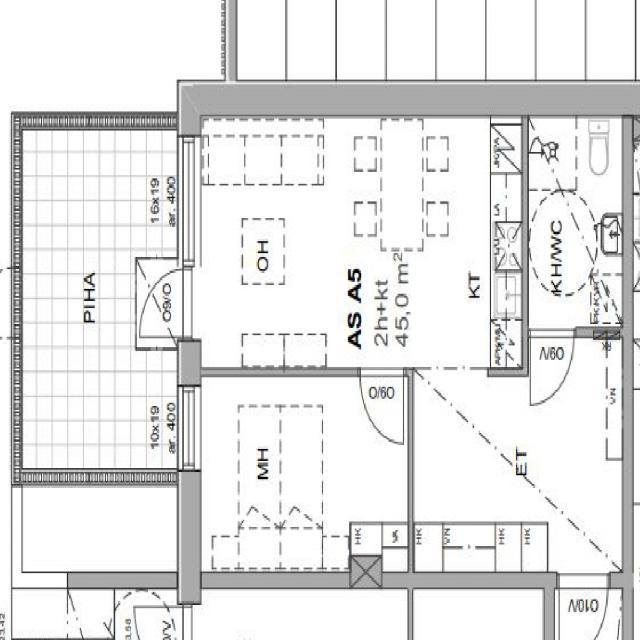door: (138, 269, 192, 338), (359, 368, 404, 446), (559, 570, 608, 640), (530, 330, 574, 406)
